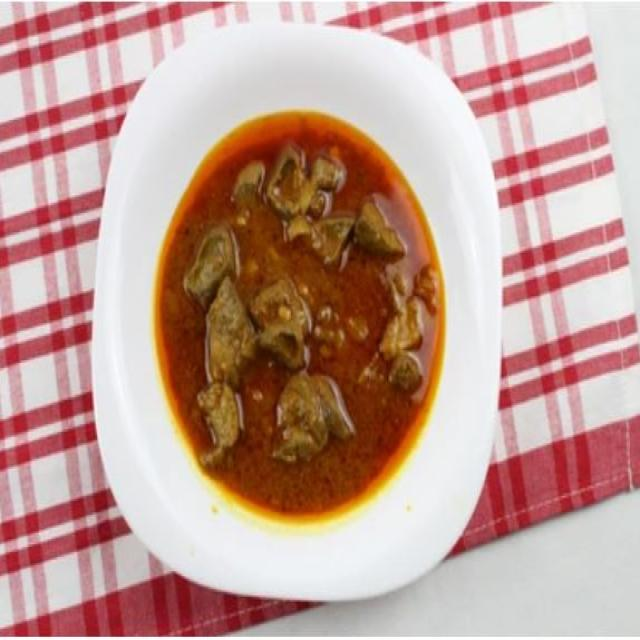kamouniya: (71, 56, 466, 597)
